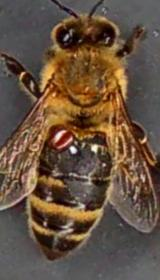varroa_mite: (42, 125, 78, 153)
